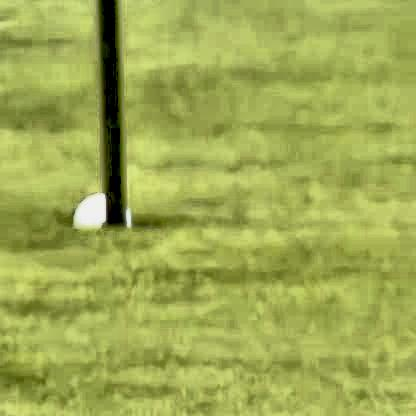golfball: (68, 199, 130, 236)
